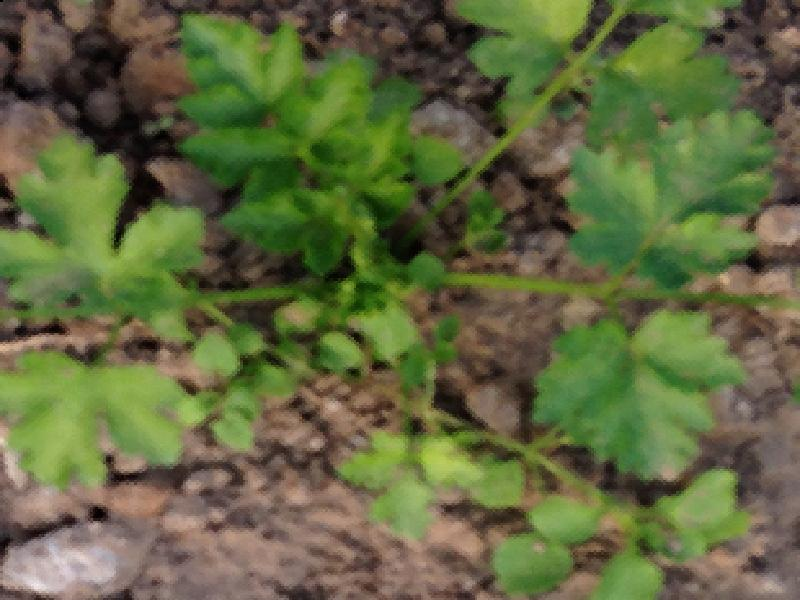radish: (15, 26, 758, 599)
